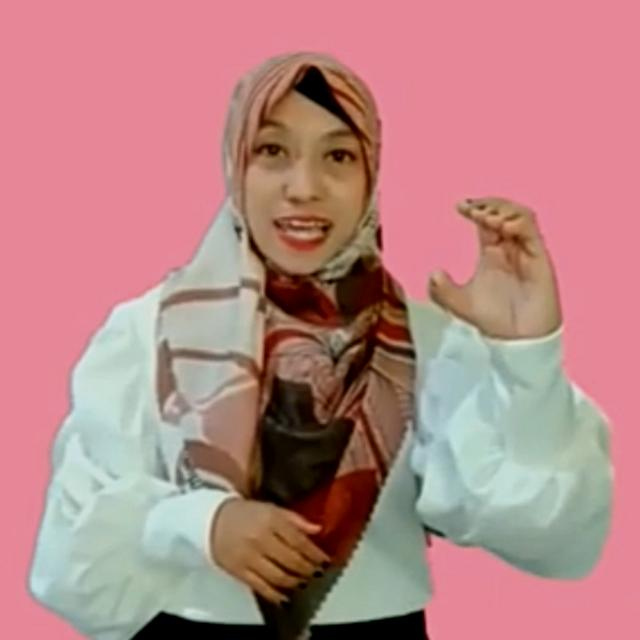C: (426, 193, 566, 339)
